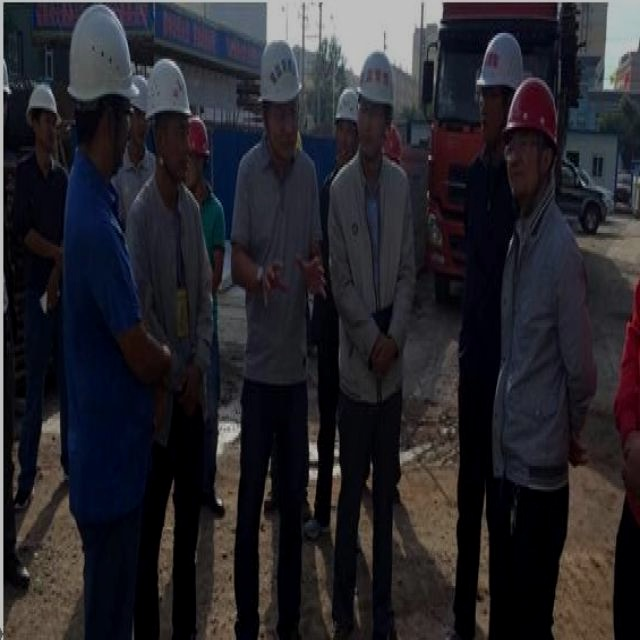Sin_Chaleco: (234, 144, 322, 371), (330, 159, 415, 390)
